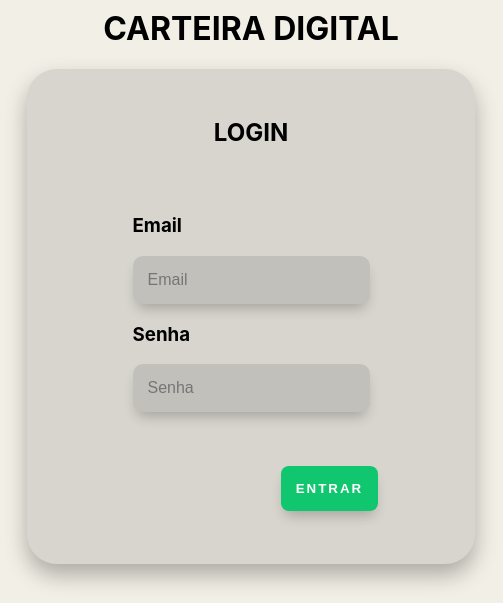
Test: Login › determinado e-mail, quando inválido, mostra mensagem de erro inválida
Type "anyValue" into the field with test id "email".
click(251, 280); type("anyValue")  # box x1=132 y1=256 x2=370 y2=304
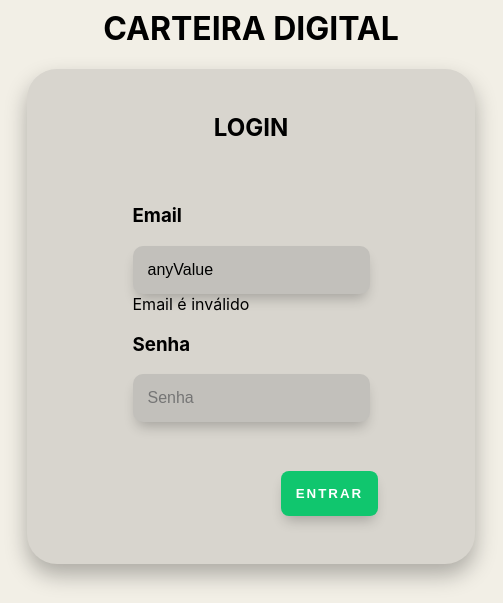
Expected: the text "Email é inválido" is shown, x1=132 y1=294 x2=249 y2=314
